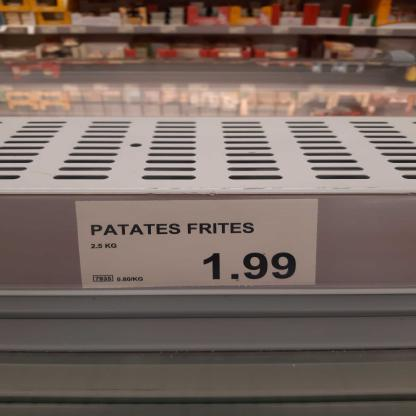prtg: (74, 197, 321, 289)
